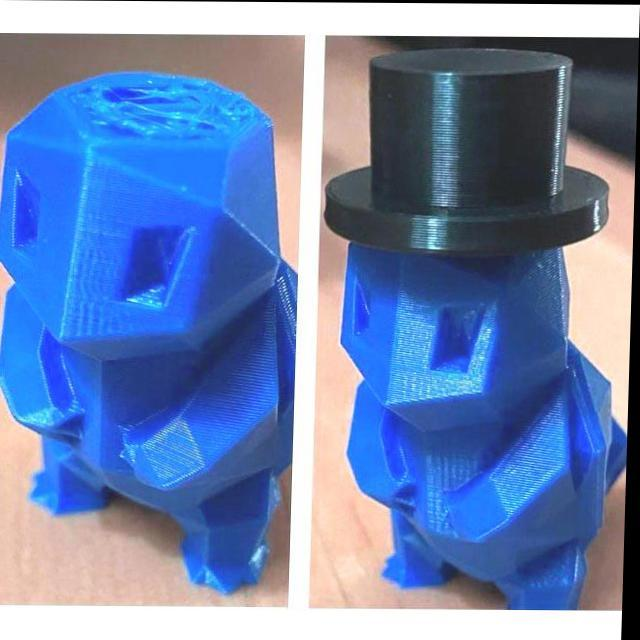spaghetti: (73, 76, 260, 143)
